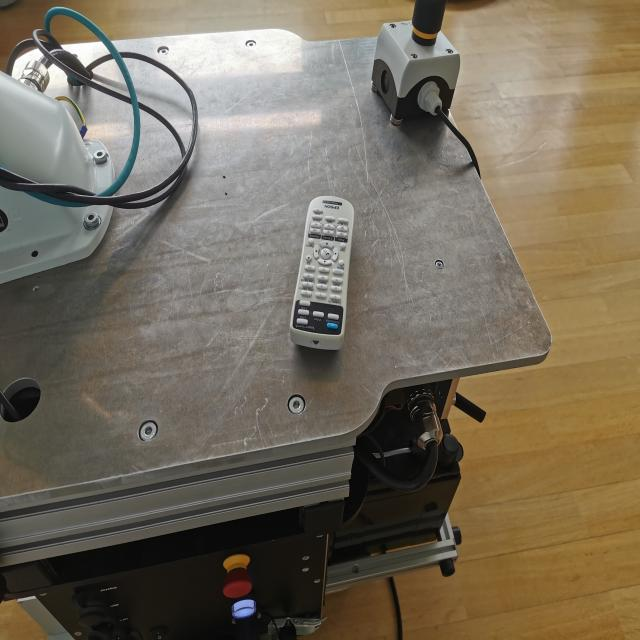remote: (289, 190, 358, 352)
